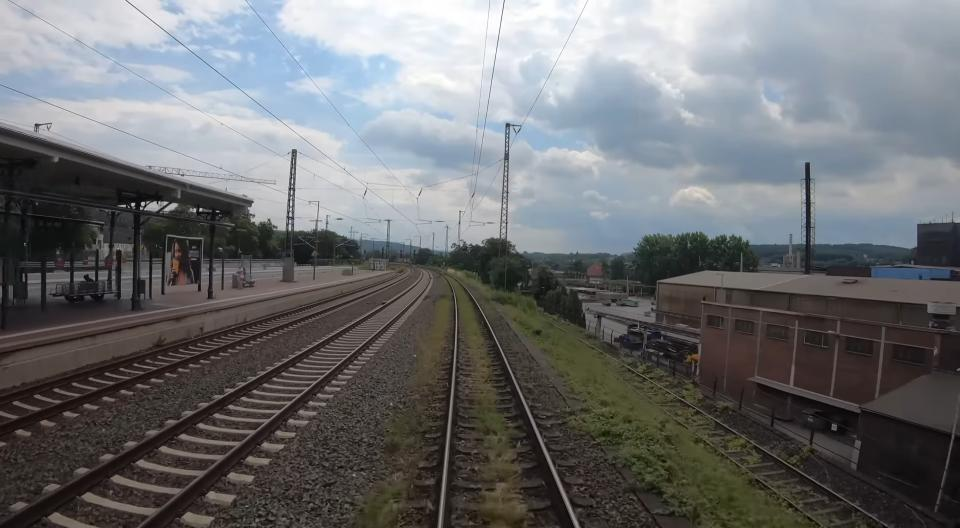Plant: (454, 284, 528, 528), (408, 298, 448, 389), (356, 479, 408, 528), (448, 268, 491, 307), (384, 413, 422, 456)
